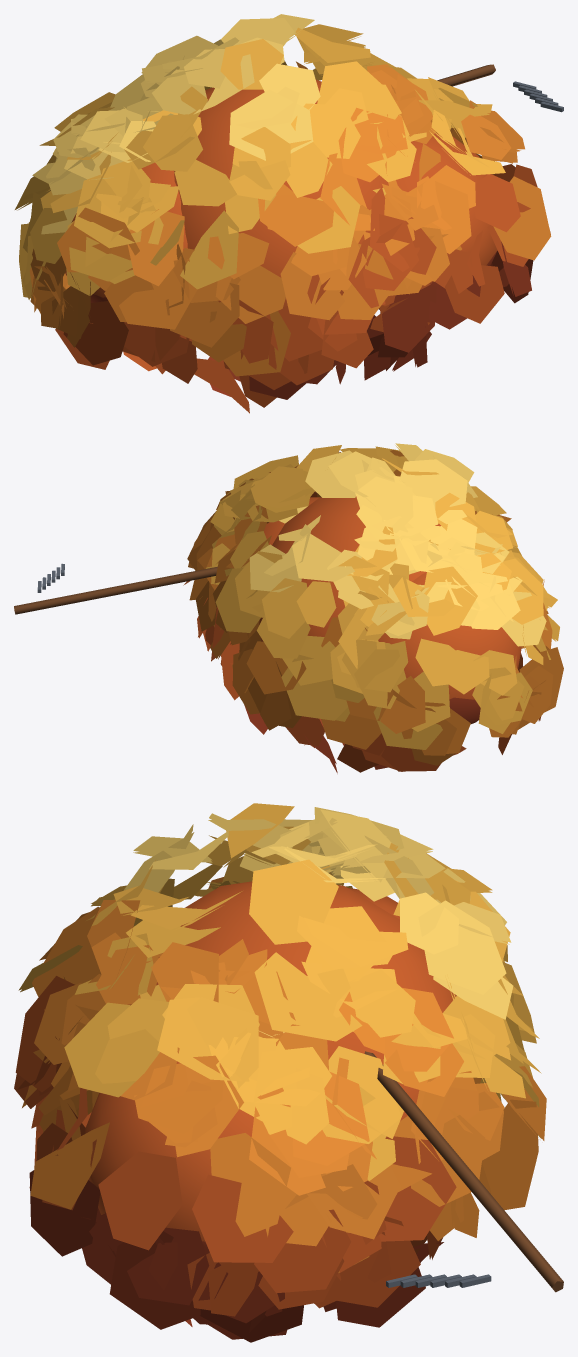
Rendered from LeafPile.glb.
The picture shows the model from 3 angles, top to bottom: view 1: azimuth 30°, elevation 25°; view 2: azimuth 150°, elevation 25°; view 3: azimuth 270°, elevation 25°; orthographic projection. The views are drawn at different scales.
Parts seen in each view (by area): view 1: Rustle, Body; view 2: Rustle, Body; view 3: Rustle, Body.
Boxes of the visible parts, x1,y1,x2,y2 form: Rustle: (15,14,551,413); Body: (65,64,563,308); Rustle: (183,443,563,773); Body: (14,496,521,723); Rustle: (14,803,546,1342); Body: (85,881,563,1292).
Bounding box in the file's own units: 4.59 × 2.85 × 3.
2 materials, 2 textured.
